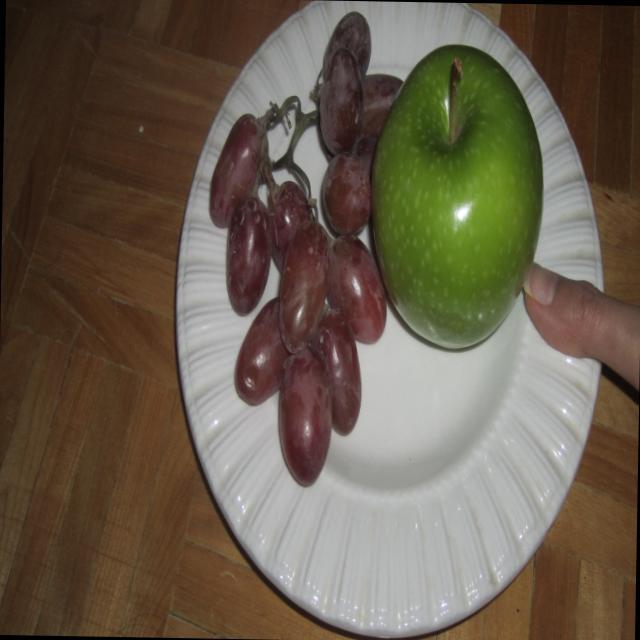Apple: (364, 37, 548, 365)
Finger: (516, 259, 602, 368)
Grapes: (197, 5, 374, 505)
